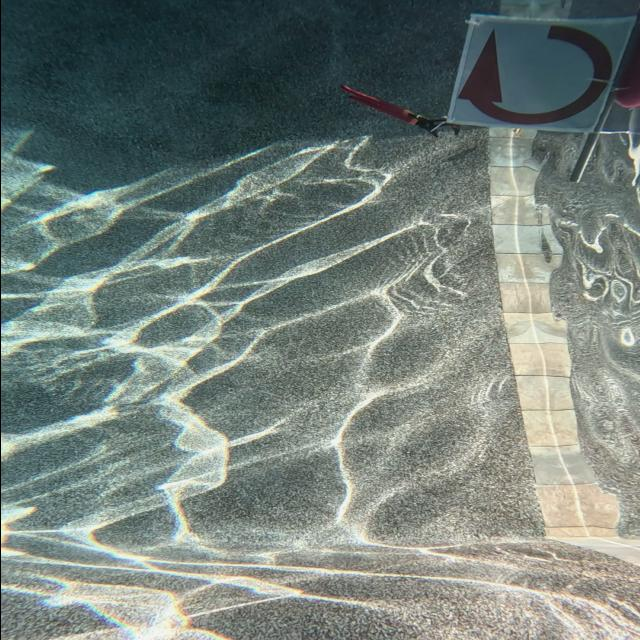red_side: (449, 9, 635, 133)
